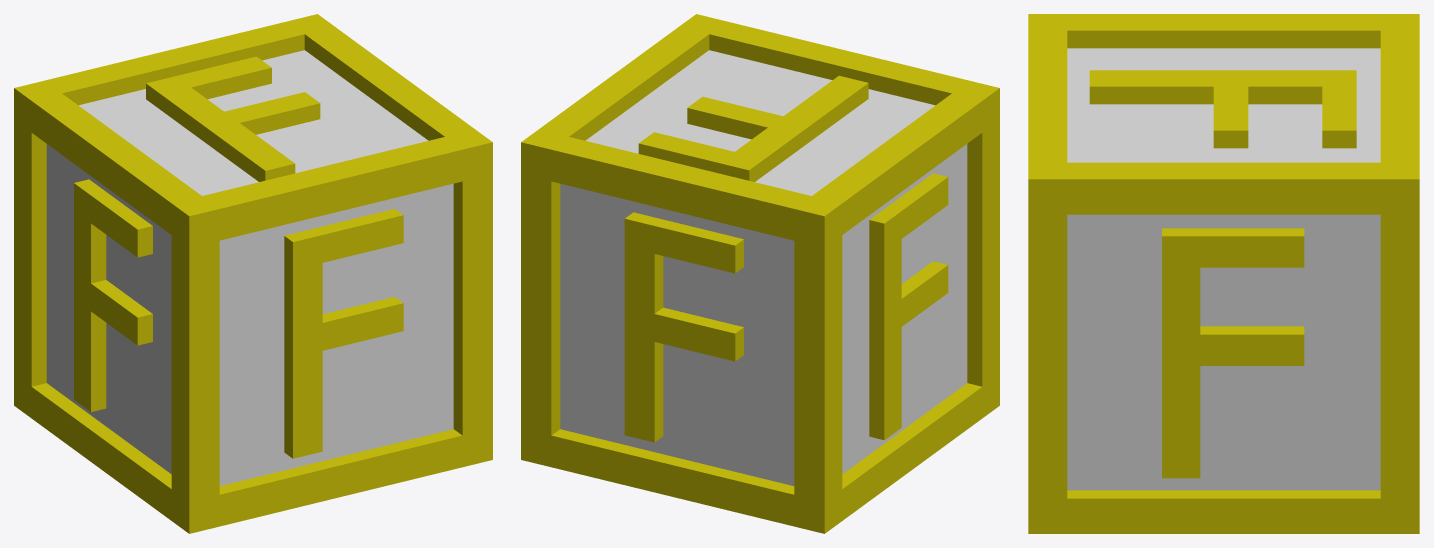
3 renders of one model, left to right at view 1: azimuth 30°, elevation 25°; view 2: azimuth 150°, elevation 25°; view 3: azimuth 270°, elevation 25°, orthographic. The views are drawn at different scales.
Parts seen in each view (by area): view 1: Cube, Text.001, Text.002, Text; view 2: Cube, Text.004, Text.002, Text; view 3: Cube, Text.003, Text.
Boxes of the visible parts, bbox=[...] form: Cube: bbox=[14, 14, 492, 533]; Text.001: bbox=[284, 209, 403, 458]; Text.002: bbox=[74, 179, 152, 411]; Text: bbox=[146, 56, 320, 181]; Cube: bbox=[521, 14, 999, 533]; Text.004: bbox=[624, 212, 743, 442]; Text.002: bbox=[869, 173, 948, 440]; Text: bbox=[638, 75, 868, 181]; Cube: bbox=[1028, 14, 1419, 533]; Text.003: bbox=[1162, 228, 1304, 478]; Text: bbox=[1089, 70, 1356, 148].
Bounding box in the file's own units: 200 × 200 × 200.
